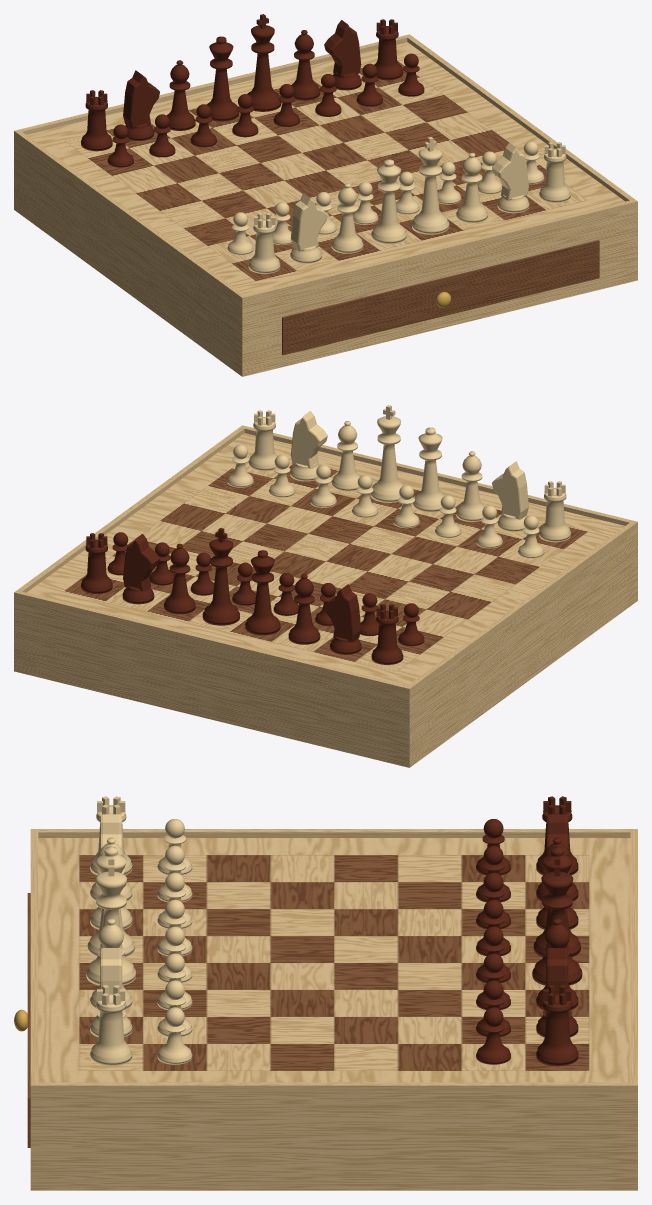
The model's file is philidor-3d-erable-tiroir-30-v2.glb.
The picture shows the model from 3 angles, top to bottom: view 1: azimuth 30°, elevation 25°; view 2: azimuth 150°, elevation 25°; view 3: azimuth 270°, elevation 25°; orthographic projection. The views are drawn at different scales.
Visible parts, largest first — view 1: erable-tiroir-30; view 2: erable-tiroir-30; view 3: erable-tiroir-30.
Boxes of the visible parts, <box> form: erable-tiroir-30: <box>14,14,637,376</box>; erable-tiroir-30: <box>14,405,637,767</box>; erable-tiroir-30: <box>14,796,637,1190</box>.
Size of what is drawn, in the model's own units: 0.305 by 0.1204 by 0.3134.
Materials: 6 (3 with a texture image).
